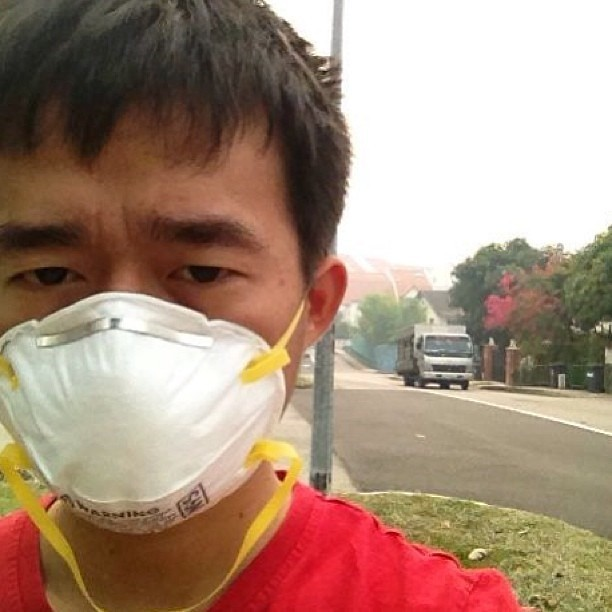n95: (1, 289, 308, 544)
